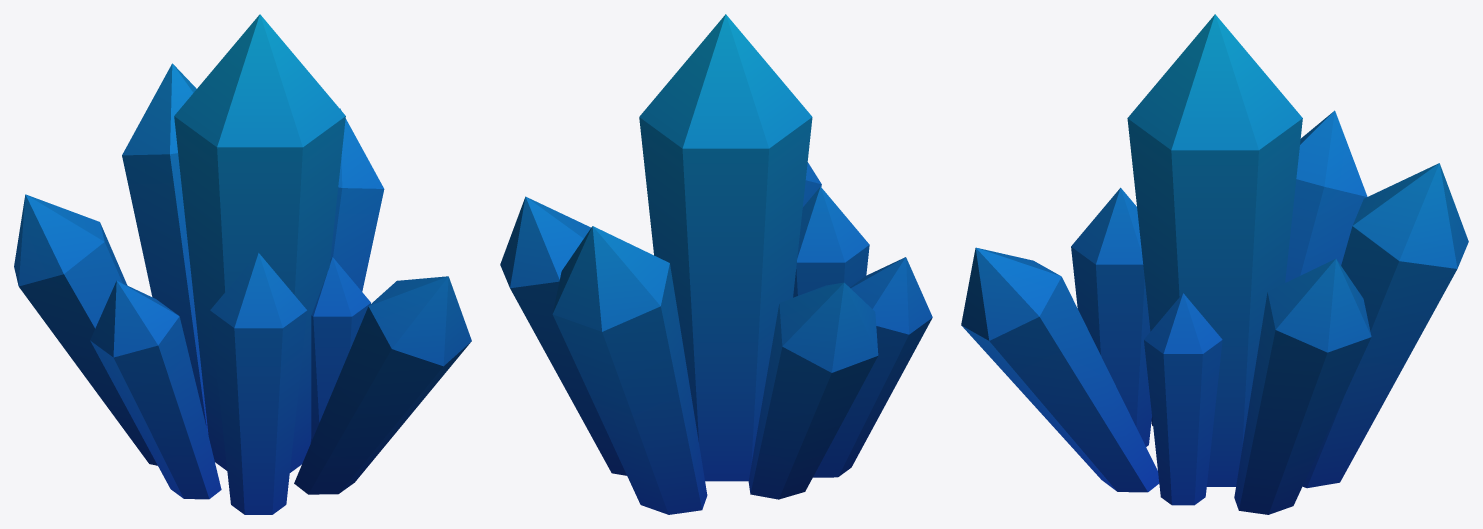
File: Crystal_2.glb
3 views of the same model, side by side, from view 1: azimuth 30°, elevation 25°; view 2: azimuth 150°, elevation 25°; view 3: azimuth 270°, elevation 25° (orthographic). The views are drawn at different scales.
Parts seen in each view (by area): view 1: crystal_21; view 2: crystal_21; view 3: crystal_21.
Part boxes in pixels (box(x1,y1,x2,y2)): crystal_21: box(14, 14, 471, 514); crystal_21: box(500, 14, 932, 514); crystal_21: box(961, 14, 1468, 514).
Bounding box in the file's own units: 4.4 × 5.16 × 5.19.
